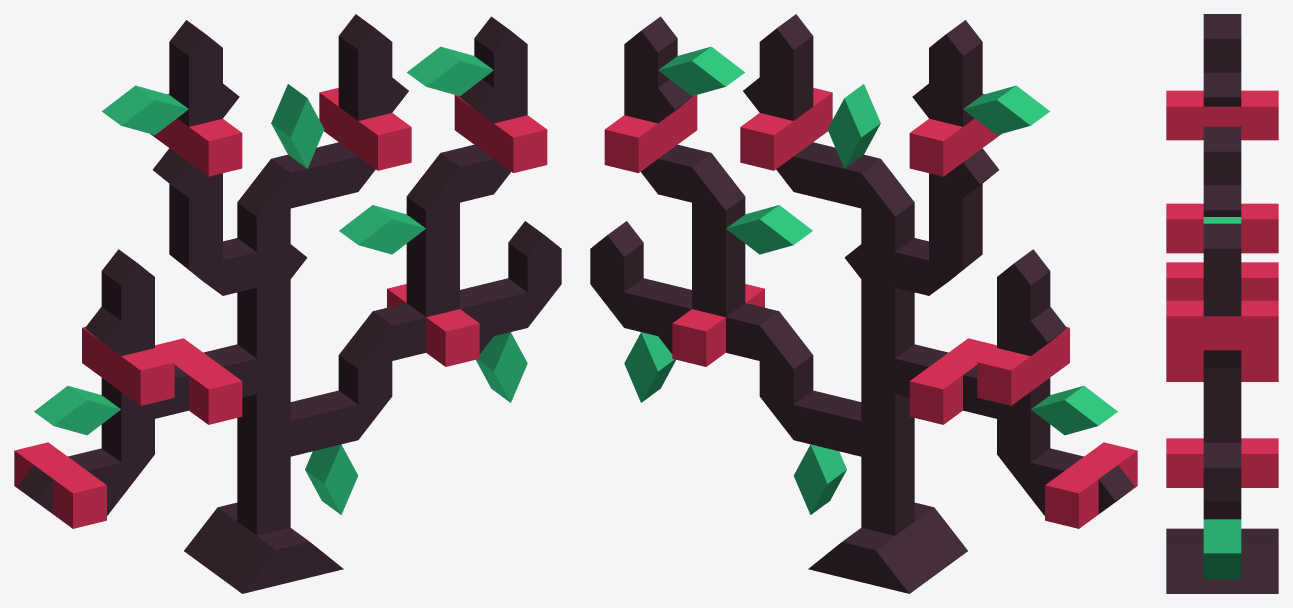
Rendered from bush.obj.
3 views of the same model, side by side, from view 1: azimuth 30°, elevation 25°; view 2: azimuth 150°, elevation 25°; view 3: azimuth 270°, elevation 25° (orthographic). The views are drawn at different scales.
Size of the model in its own units: 15.5 by 15.5 by 3.
Materials: 1 (1 with a texture image).
